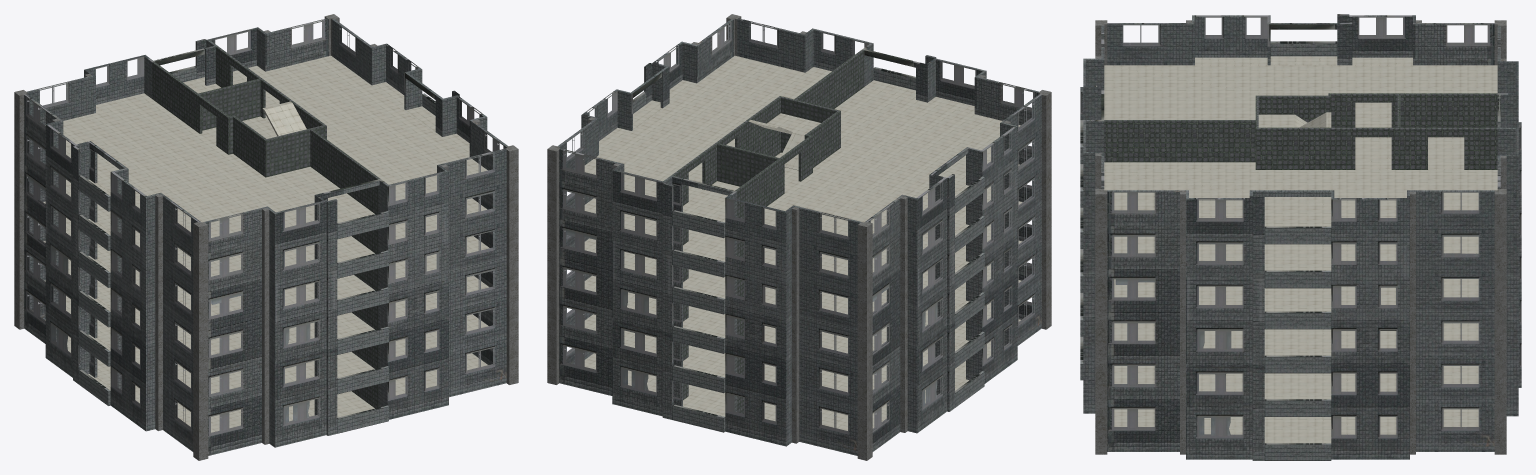
The model's file is BagSS07mid_high.fbx.
3 views of the same model, side by side, from view 1: azimuth 30°, elevation 25°; view 2: azimuth 150°, elevation 25°; view 3: azimuth 270°, elevation 25° (orthographic). The views are drawn at different scales.
Parts seen in each view (by area): view 1: midMain700, midFLoors700, midWall700, midCeilingsa700; view 2: midMain700, midFLoors700, midCeilingsa700, midWall700; view 3: midMain700, midFLoors700, midWall700, midCeilingsa700.
Part boxes in pixels (x1,y1,x2,y2): midMain700: (24,18,507,455); midFLoors700: (43,55,489,432); midWall700: (152,46,380,408); midCeilingsa700: (14,14,518,460); midMain700: (558,18,1041,455); midFLoors700: (584,55,1022,430); midCeilingsa700: (547,14,1051,460); midWall700: (671,50,864,413); midMain700: (1080,14,1521,460); midFLoors700: (1104,56,1497,443); midWall700: (1104,93,1497,169); midCeilingsa700: (1095,20,1506,454).
Bounding box in the file's own units: 35.04 × 22.8 × 35.04.
